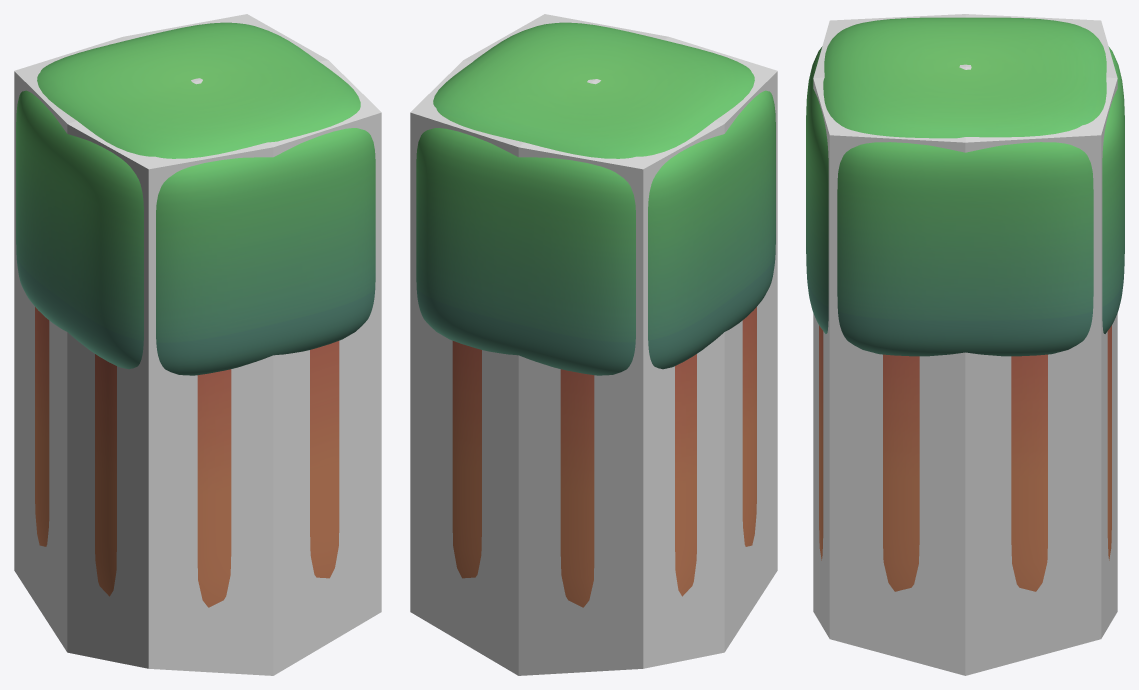
File: PlatformVerySmallLow.glb
3 views of the same model, side by side, from view 1: azimuth 30°, elevation 25°; view 2: azimuth 150°, elevation 25°; view 3: azimuth 270°, elevation 25° (orthographic).
Parts seen in each view (by area): view 1: PlatformVerySmallLow, colision-colonly.001; view 2: PlatformVerySmallLow, colision-colonly.001; view 3: PlatformVerySmallLow, colision-colonly.001.
Part boxes in pixels (box(x1,y1,x2,y2)): PlatformVerySmallLow: box(16, 22, 375, 607); colision-colonly.001: box(14, 14, 381, 675); PlatformVerySmallLow: box(416, 22, 775, 607); colision-colonly.001: box(410, 14, 777, 675); PlatformVerySmallLow: box(806, 17, 1124, 591); colision-colonly.001: box(813, 14, 1117, 675).
Size of the model in its own units: 0.9729 by 1.84 by 0.9729.
Materials: 1 (1 with a texture image).
